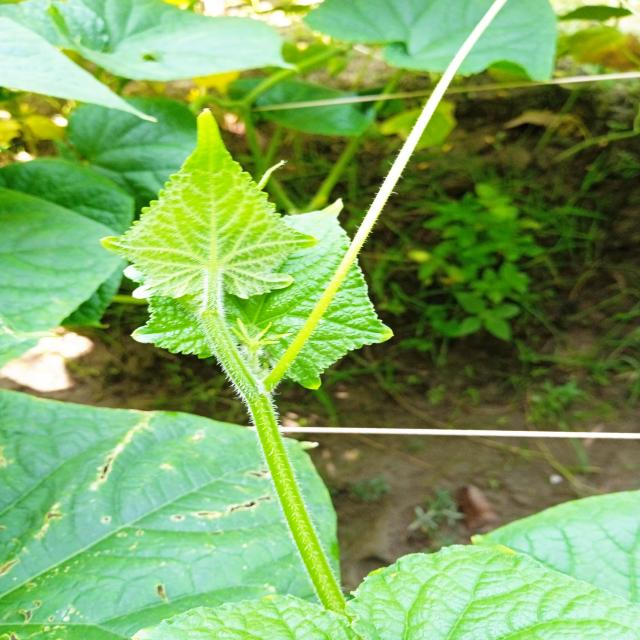Fresh-Leaf: (133, 198, 399, 387), (101, 108, 319, 309)
